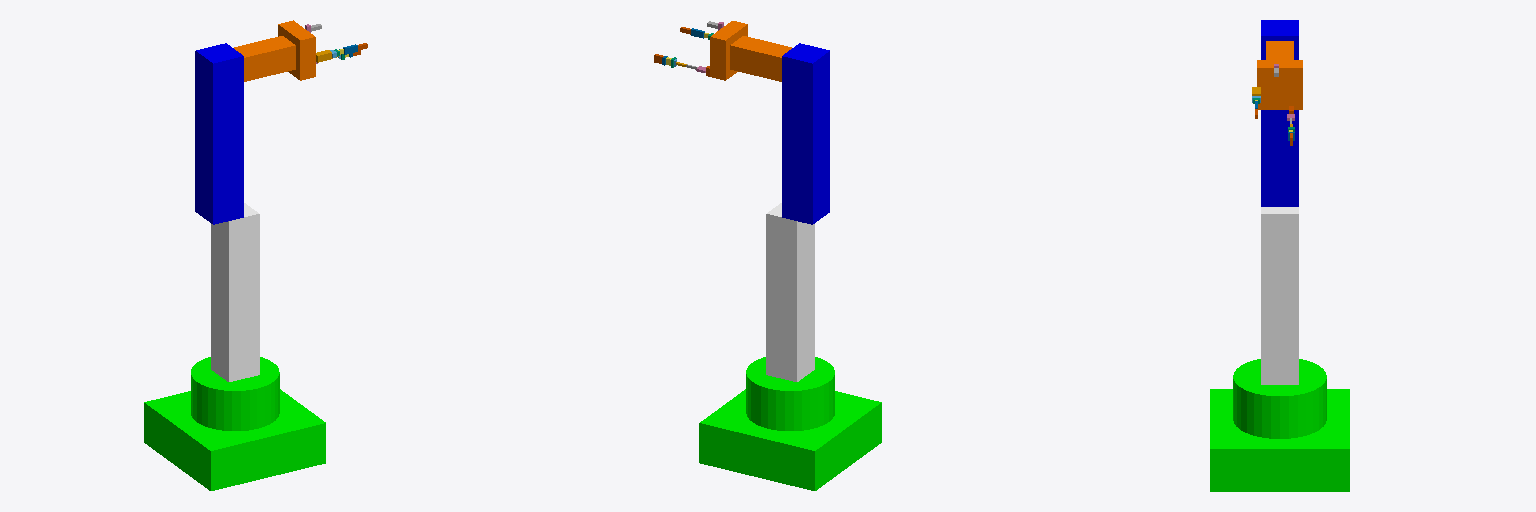
URDF robot description (robot):
<?xml version='1.0' encoding='utf-8'?>
<robot name="robot">
  <link name="base_link">
    <visual>
      <origin xyz="0 0 0.125" rpy="0 0 0" />
      <geometry>
        <box size="0.75 0.75 0.25" />
      </geometry>
      <material name="green" />
    </visual>
    <visual>
      <origin xyz="0 0 0.375" rpy="0 0 0" />
      <geometry>
        <cylinder length="0.25" radius="0.25" />
      </geometry>
      <material name="green">
        <color rgba="0 1 0 1" />
      </material>
    </visual>
    <collision>
      <geometry>
        <box size="0.75 0.75 0.5" />
      </geometry>
    </collision>
    <inertial>
      <mass value="0.5" />
      <inertia ixx="0.034" ixy="0.0" ixz="0.0" iyy="0.034" iyz="0.0" izz="0.034" />
    </inertial>
  </link>
  <link name="support_link">
    <visual>
      <origin xyz="0 0 0.5" rpy="0 0 0" />
      <geometry>
        <box size="0.2 0.2 1" />
      </geometry>
      <material name="white">
        <color rgba="1 1 1 1" />
      </material>
    </visual>
    <collision>
      <geometry>
        <box size="0.2 0.2 1" />
      </geometry>
    </collision>
    <inertial>
      <mass value="0.1" />
      <inertia ixx="0.01" ixy="0.0" ixz="0.0" iyy="0.01" iyz="0.0" izz="0.01" />
    </inertial>
  </link>
  <joint name="support_joint" type="continuous">
    <origin xyz="0 0 0.5" rpy="0 0 0" />
    <parent link="base_link" />
    <child link="support_link" />
    <axis xyz="0 0 1" />
  </joint>
  <link name="arm_link">
    <visual>
      <origin xyz="0 0 0.5" rpy="0 0 0" />
      <geometry>
        <box size="0.2 0.2 1" />
      </geometry>
      <material name="blue">
        <color rgba="0 0 1 1" />
      </material>
    </visual>
    <collision>
      <geometry>
        <box size="0.2 0.2 1" />
      </geometry>
    </collision>
    <inertial>
      <mass value="0.1" />
      <inertia ixx="0.01" ixy="0.0" ixz="0.0" iyy="0.01" iyz="0.0" izz="0.01" />
    </inertial>
  </link>
  <joint name="arm_joint" type="revolute">
    <origin xyz="-0.1 0 1" rpy="0 0 0" />
    <parent link="support_link" />
    <child link="arm_link" />
    <axis xyz="0 1 0" />
    <limit lower="-3.14" upper="3.14" effort="1.0" velocity="1.0" />
  </joint>
  <link name="wrist_link">
    <visual>
      <origin xyz="0 0 0.25" rpy="0 0 0" />
      <geometry>
        <box size="0.15 0.15 0.5" />
      </geometry>
      <material name="orange">
        <color rgba="1 0.5 0 1" />
      </material>
    </visual>
    <collision>
      <geometry>
        <box size="0.15 0.15 0.5" />
      </geometry>
    </collision>
    <inertial>
      <mass value="0.1" />
      <inertia ixx="0.01" ixy="0.0" ixz="0.0" iyy="0.01" iyz="0.0" izz="0.01" />
    </inertial>
  </link>
  <joint name="wrist_joint" type="fixed">
    <origin xyz="0 0 0.9" rpy="0 1.571 0" />
    <parent link="arm_link" />
    <child link="wrist_link" />
  </joint>
  <link name="palm_link">
    <visual>
      <origin xyz="0 0 0.05" rpy="0 0 0" />
      <geometry>
        <box size="0.25 0.25 0.1" />
      </geometry>
      <material name="orange" />
    </visual>
    <collision>
      <geometry>
        <box size="0.25 0.25 0.1" />
      </geometry>
    </collision>
    <inertial>
      <mass value="0.1" />
      <inertia ixx="0.01" ixy="0.0" ixz="0.0" iyy="0.01" iyz="0.0" izz="0.01" />
    </inertial>
  </link>
  <joint name="palm_joint" type="fixed">
    <origin xyz="0 0 0.45" rpy="0 0 0" />
    <parent link="wrist_link" />
    <child link="palm_link" />
  </joint>
  <link name="finger_link_0_0">
    <visual>
      <origin xyz="0 0 0.0285" rpy="0 0 0" />
      <geometry>
        <box size="0.05 0.031 0.057" />
      </geometry>
    </visual>
    <collision>
      <geometry>
        <box size="0.05 0.031 0.057" />
      </geometry>
    </collision>
    <inertial>
      <mass value="0.027" />
      <inertia ixx="0.0" iyy="0.0" izz="0.0" ixy="0" ixz="0" iyz="0" />
    </inertial>
  </link>
  <joint name="finger_joint_palm_link_to_finger_link_0_0" type="revolute">
    <origin xyz="0.125 0.061 0.1" rpy="0 0 0" />
    <parent link="palm_link" />
    <child link="finger_link_0_0" />
    <axis xyz="0.0 1.0 0.0" />
    <limit lower="-3.142" upper="3.142" effort="10" velocity="10" />
  </joint>
  <link name="finger_link_0_1">
    <visual>
      <origin xyz="0 0 0.029" rpy="0 0 0" />
      <geometry>
        <box size="0.015 0.043 0.058" />
      </geometry>
    </visual>
    <collision>
      <geometry>
        <box size="0.015 0.043 0.058" />
      </geometry>
    </collision>
    <inertial>
      <mass value="0.011" />
      <inertia ixx="0.0" iyy="0.0" izz="0.0" ixy="0" ixz="0" iyz="0" />
    </inertial>
  </link>
  <joint name="finger_joint_finger_link_0_0_to_finger_link_0_1" type="revolute">
    <origin xyz="0.0 0.0 0.057" rpy="0 0 0" />
    <parent link="finger_link_0_0" />
    <child link="finger_link_0_1" />
    <axis xyz="0.0 1.0 0.0" />
    <limit lower="-3.142" upper="3.142" effort="10" velocity="10" />
  </joint>
  <link name="finger_link_0_2">
    <visual>
      <origin xyz="0 0 0.0375" rpy="0 0 0" />
      <geometry>
        <box size="0.015 0.011 0.075" />
      </geometry>
    </visual>
    <collision>
      <geometry>
        <box size="0.015 0.011 0.075" />
      </geometry>
    </collision>
    <inertial>
      <mass value="0.004" />
      <inertia ixx="0.0" iyy="0.0" izz="0.0" ixy="0" ixz="0" iyz="0" />
    </inertial>
  </link>
  <joint name="finger_joint_finger_link_0_1_to_finger_link_0_2" type="revolute">
    <origin xyz="0.0 0.0 0.058" rpy="0 0 0" />
    <parent link="finger_link_0_1" />
    <child link="finger_link_0_2" />
    <axis xyz="1.0 0.0 0.0" />
    <limit lower="-3.142" upper="3.142" effort="10" velocity="10" />
  </joint>
  <link name="finger_link_0_3">
    <visual>
      <origin xyz="0 0 0.0325" rpy="0 0 0" />
      <geometry>
        <box size="0.012 0.017 0.065" />
      </geometry>
    </visual>
    <collision>
      <geometry>
        <box size="0.012 0.017 0.065" />
      </geometry>
    </collision>
    <inertial>
      <mass value="0.004" />
      <inertia ixx="0.0" iyy="0.0" izz="0.0" ixy="0" ixz="0" iyz="0" />
    </inertial>
  </link>
  <joint name="finger_joint_finger_link_0_2_to_finger_link_0_3" type="revolute">
    <origin xyz="0.0 0.0 0.075" rpy="0 0 0" />
    <parent link="finger_link_0_2" />
    <child link="finger_link_0_3" />
    <axis xyz="0.0 1.0 0.0" />
    <limit lower="-3.142" upper="3.142" effort="10" velocity="10" />
  </joint>
  <link name="finger_link_0_4">
    <visual>
      <origin xyz="0 0 0.0055" rpy="0 0 0" />
      <geometry>
        <box size="0.037 0.021 0.011" />
      </geometry>
    </visual>
    <collision>
      <geometry>
        <box size="0.037 0.021 0.011" />
      </geometry>
    </collision>
    <inertial>
      <mass value="0.003" />
      <inertia ixx="0.0" iyy="0.0" izz="0.0" ixy="0" ixz="0" iyz="0" />
    </inertial>
  </link>
  <joint name="finger_joint_finger_link_0_3_to_finger_link_0_4" type="revolute">
    <origin xyz="0.0 0.0 0.065" rpy="0 0 0" />
    <parent link="finger_link_0_3" />
    <child link="finger_link_0_4" />
    <axis xyz="0.0 1.0 0.0" />
    <limit lower="-3.142" upper="3.142" effort="10" velocity="10" />
  </joint>
  <link name="finger_link_0_5">
    <visual>
      <origin xyz="0 0 0.008" rpy="0 0 0" />
      <geometry>
        <box size="0.049 0.042 0.016" />
      </geometry>
    </visual>
    <collision>
      <geometry>
        <box size="0.049 0.042 0.016" />
      </geometry>
    </collision>
    <inertial>
      <mass value="0.01" />
      <inertia ixx="0.0" iyy="0.0" izz="0.0" ixy="0" ixz="0" iyz="0" />
    </inertial>
  </link>
  <joint name="finger_joint_finger_link_0_4_to_finger_link_0_5" type="revolute">
    <origin xyz="0.0 0.0 0.011" rpy="0 0 0" />
    <parent link="finger_link_0_4" />
    <child link="finger_link_0_5" />
    <axis xyz="0.0 1.0 0.0" />
    <limit lower="-3.142" upper="3.142" effort="10" velocity="10" />
  </joint>
  <link name="finger_link_0_6">
    <visual>
      <origin xyz="0 0 0.0185" rpy="0 0 0" />
      <geometry>
        <box size="0.038 0.021 0.037" />
      </geometry>
    </visual>
    <collision>
      <geometry>
        <box size="0.038 0.021 0.037" />
      </geometry>
    </collision>
    <inertial>
      <mass value="0.009" />
      <inertia ixx="0.0" iyy="0.0" izz="0.0" ixy="0" ixz="0" iyz="0" />
    </inertial>
  </link>
  <joint name="finger_joint_finger_link_0_5_to_finger_link_0_6" type="revolute">
    <origin xyz="0.0 0.0 0.016" rpy="0 0 0" />
    <parent link="finger_link_0_5" />
    <child link="finger_link_0_6" />
    <axis xyz="0.0 1.0 0.0" />
    <limit lower="-3.142" upper="3.142" effort="10" velocity="10" />
  </joint>
  <link name="finger_link_0_7">
    <visual>
      <origin xyz="0 0 0.009" rpy="0 0 0" />
      <geometry>
        <box size="0.045 0.035 0.018" />
      </geometry>
    </visual>
    <collision>
      <geometry>
        <box size="0.045 0.035 0.018" />
      </geometry>
    </collision>
    <inertial>
      <mass value="0.009" />
      <inertia ixx="0.0" iyy="0.0" izz="0.0" ixy="0" ixz="0" iyz="0" />
    </inertial>
  </link>
  <joint name="finger_joint_finger_link_0_6_to_finger_link_0_7" type="revolute">
    <origin xyz="0.0 0.0 0.037" rpy="0 0 0" />
    <parent link="finger_link_0_6" />
    <child link="finger_link_0_7" />
    <axis xyz="1.0 1.0 0.0" />
    <limit lower="-3.142" upper="3.142" effort="10" velocity="10" />
  </joint>
  <link name="finger_link_0_8">
    <visual>
      <origin xyz="0 0 0.029" rpy="0 0 0" />
      <geometry>
        <box size="0.046 0.019 0.058" />
      </geometry>
    </visual>
    <collision>
      <geometry>
        <box size="0.046 0.019 0.058" />
      </geometry>
    </collision>
    <inertial>
      <mass value="0.015" />
      <inertia ixx="0.0" iyy="0.0" izz="0.0" ixy="0" ixz="0" iyz="0" />
    </inertial>
  </link>
  <joint name="finger_joint_finger_link_0_7_to_finger_link_0_8" type="revolute">
    <origin xyz="0.0 0.0 0.018" rpy="0 0 0" />
    <parent link="finger_link_0_7" />
    <child link="finger_link_0_8" />
    <axis xyz="1.0 0.0 0.0" />
    <limit lower="-3.142" upper="3.142" effort="10" velocity="10" />
  </joint>
  <link name="finger_link_1_0">
    <visual>
      <origin xyz="0 0 0.012" rpy="0 0 0" />
      <geometry>
        <box size="0.049 0.028 0.024" />
      </geometry>
    </visual>
    <collision>
      <geometry>
        <box size="0.049 0.028 0.024" />
      </geometry>
    </collision>
    <inertial>
      <mass value="0.01" />
      <inertia ixx="0.0" iyy="0.0" izz="0.0" ixy="0" ixz="0" iyz="0" />
    </inertial>
  </link>
  <joint name="finger_joint_palm_link_to_finger_link_1_0" type="revolute">
    <origin xyz="-0.125 -0.018 0.1" rpy="0 0 0" />
    <parent link="palm_link" />
    <child link="finger_link_1_0" />
    <axis xyz="0.0 -1.0 0.0" />
    <limit lower="-3.142" upper="3.142" effort="10" velocity="10" />
  </joint>
  <link name="finger_link_1_1">
    <visual>
      <origin xyz="0 0 0.035" rpy="0 0 0" />
      <geometry>
        <box size="0.021 0.03 0.07" />
      </geometry>
    </visual>
    <collision>
      <geometry>
        <box size="0.021 0.03 0.07" />
      </geometry>
    </collision>
    <inertial>
      <mass value="0.013" />
      <inertia ixx="0.0" iyy="0.0" izz="0.0" ixy="0" ixz="0" iyz="0" />
    </inertial>
  </link>
  <joint name="finger_joint_finger_link_1_0_to_finger_link_1_1" type="revolute">
    <origin xyz="0.0 0.0 0.024" rpy="0 0 0" />
    <parent link="finger_link_1_0" />
    <child link="finger_link_1_1" />
    <axis xyz="1.0 0.0 0.0" />
    <limit lower="-3.142" upper="3.142" effort="10" velocity="10" />
  </joint>
  <link name="finger_link_2_0">
    <visual>
      <origin xyz="0 0 0.048" rpy="0 0 0" />
      <geometry>
        <box size="0.042 0.043 0.096" />
      </geometry>
    </visual>
    <collision>
      <geometry>
        <box size="0.042 0.043 0.096" />
      </geometry>
    </collision>
    <inertial>
      <mass value="0.052" />
      <inertia ixx="0.0" iyy="0.0" izz="0.0" ixy="0" ixz="0" iyz="0" />
    </inertial>
  </link>
  <joint name="finger_joint_palm_link_to_finger_link_2_0" type="revolute">
    <origin xyz="0.007 -0.125 0.1" rpy="0 0 0" />
    <parent link="palm_link" />
    <child link="finger_link_2_0" />
    <axis xyz="1.0 0.0 0.0" />
    <limit lower="-3.142" upper="3.142" effort="10" velocity="10" />
  </joint>
  <link name="finger_link_2_1">
    <visual>
      <origin xyz="0 0 0.015" rpy="0 0 0" />
      <geometry>
        <box size="0.028 0.048 0.03" />
      </geometry>
    </visual>
    <collision>
      <geometry>
        <box size="0.028 0.048 0.03" />
      </geometry>
    </collision>
    <inertial>
      <mass value="0.012" />
      <inertia ixx="0.0" iyy="0.0" izz="0.0" ixy="0" ixz="0" iyz="0" />
    </inertial>
  </link>
  <joint name="finger_joint_finger_link_2_0_to_finger_link_2_1" type="revolute">
    <origin xyz="0.0 0.0 0.096" rpy="0 0 0" />
    <parent link="finger_link_2_0" />
    <child link="finger_link_2_1" />
    <axis xyz="1.0 0.0 0.0" />
    <limit lower="-3.142" upper="3.142" effort="10" velocity="10" />
  </joint>
  <link name="finger_link_2_2">
    <visual>
      <origin xyz="0 0 0.0105" rpy="0 0 0" />
      <geometry>
        <box size="0.026 0.039 0.021" />
      </geometry>
    </visual>
    <collision>
      <geometry>
        <box size="0.026 0.039 0.021" />
      </geometry>
    </collision>
    <inertial>
      <mass value="0.006" />
      <inertia ixx="0.0" iyy="0.0" izz="0.0" ixy="0" ixz="0" iyz="0" />
    </inertial>
  </link>
  <joint name="finger_joint_finger_link_2_1_to_finger_link_2_2" type="revolute">
    <origin xyz="0.0 0.0 0.03" rpy="0 0 0" />
    <parent link="finger_link_2_1" />
    <child link="finger_link_2_2" />
    <axis xyz="1.0 0.0 0.0" />
    <limit lower="-3.142" upper="3.142" effort="10" velocity="10" />
  </joint>
  <link name="finger_link_2_3">
    <visual>
      <origin xyz="0 0 0.018" rpy="0 0 0" />
      <geometry>
        <box size="0.026 0.012 0.036" />
      </geometry>
    </visual>
    <collision>
      <geometry>
        <box size="0.026 0.012 0.036" />
      </geometry>
    </collision>
    <inertial>
      <mass value="0.003" />
      <inertia ixx="0.0" iyy="0.0" izz="0.0" ixy="0" ixz="0" iyz="0" />
    </inertial>
  </link>
  <joint name="finger_joint_finger_link_2_2_to_finger_link_2_3" type="revolute">
    <origin xyz="0.0 0.0 0.021" rpy="0 0 0" />
    <parent link="finger_link_2_2" />
    <child link="finger_link_2_3" />
    <axis xyz="1.0 0.0 0.0" />
    <limit lower="-3.142" upper="3.142" effort="10" velocity="10" />
  </joint>
  <link name="finger_link_2_4">
    <visual>
      <origin xyz="0 0 0.0415" rpy="0 0 0" />
      <geometry>
        <box size="0.039 0.019 0.083" />
      </geometry>
    </visual>
    <collision>
      <geometry>
        <box size="0.039 0.019 0.083" />
      </geometry>
    </collision>
    <inertial>
      <mass value="0.018" />
      <inertia ixx="0.0" iyy="0.0" izz="0.0" ixy="0" ixz="0" iyz="0" />
    </inertial>
  </link>
  <joint name="finger_joint_finger_link_2_3_to_finger_link_2_4" type="revolute">
    <origin xyz="0.0 0.0 0.036" rpy="0 0 0" />
    <parent link="finger_link_2_3" />
    <child link="finger_link_2_4" />
    <axis xyz="0.0 1.0 0.0" />
    <limit lower="-3.142" upper="3.142" effort="10" velocity="10" />
  </joint>
  <link name="finger_link_2_5">
    <visual>
      <origin xyz="0 0 0.0335" rpy="0 0 0" />
      <geometry>
        <box size="0.026 0.02 0.067" />
      </geometry>
    </visual>
    <collision>
      <geometry>
        <box size="0.026 0.02 0.067" />
      </geometry>
    </collision>
    <inertial>
      <mass value="0.01" />
      <inertia ixx="0.0" iyy="0.0" izz="0.0" ixy="0" ixz="0" iyz="0" />
    </inertial>
  </link>
  <joint name="finger_joint_finger_link_2_4_to_finger_link_2_5" type="revolute">
    <origin xyz="0.0 0.0 0.083" rpy="0 0 0" />
    <parent link="finger_link_2_4" />
    <child link="finger_link_2_5" />
    <axis xyz="0.0 1.0 0.0" />
    <limit lower="-3.142" upper="3.142" effort="10" velocity="10" />
  </joint>
</robot>

--- What the picture shows (computed from the rendered views, not written in the file) ---
3 views of the same robot in one strip: view 1: azimuth 30°, elevation 25°; view 2: azimuth 150°, elevation 25°; view 3: azimuth 270°, elevation 25° (orthographic).
Model robot with 22 links and 21 joints (18 revolute, 1 continuous, 2 fixed), rooted at base_link, posed every joint at zero.
Links seen in each view (by area): view 1: base_link, arm_link, support_link, wrist_link, palm_link; view 2: base_link, arm_link, support_link, wrist_link, palm_link; view 3: base_link, support_link, arm_link, palm_link, wrist_link.
Boxes of the visible links, box(x1,y1,x2,y2) form: base_link: box(144, 357, 325, 490); arm_link: box(195, 43, 243, 224); support_link: box(211, 203, 259, 381); wrist_link: box(234, 36, 295, 81); palm_link: box(278, 20, 315, 80); base_link: box(699, 357, 881, 490); arm_link: box(782, 43, 829, 224); support_link: box(766, 203, 814, 381); wrist_link: box(730, 36, 791, 81); palm_link: box(710, 21, 747, 80); base_link: box(1210, 359, 1349, 491); support_link: box(1261, 207, 1298, 384); arm_link: box(1261, 20, 1298, 206); palm_link: box(1257, 60, 1302, 109); wrist_link: box(1266, 41, 1293, 59).
Size in the robot's own frame: 1.22 by 0.75 by 2.55 metres.
Geometry: primitives only (box / cylinder / sphere), no mesh files.